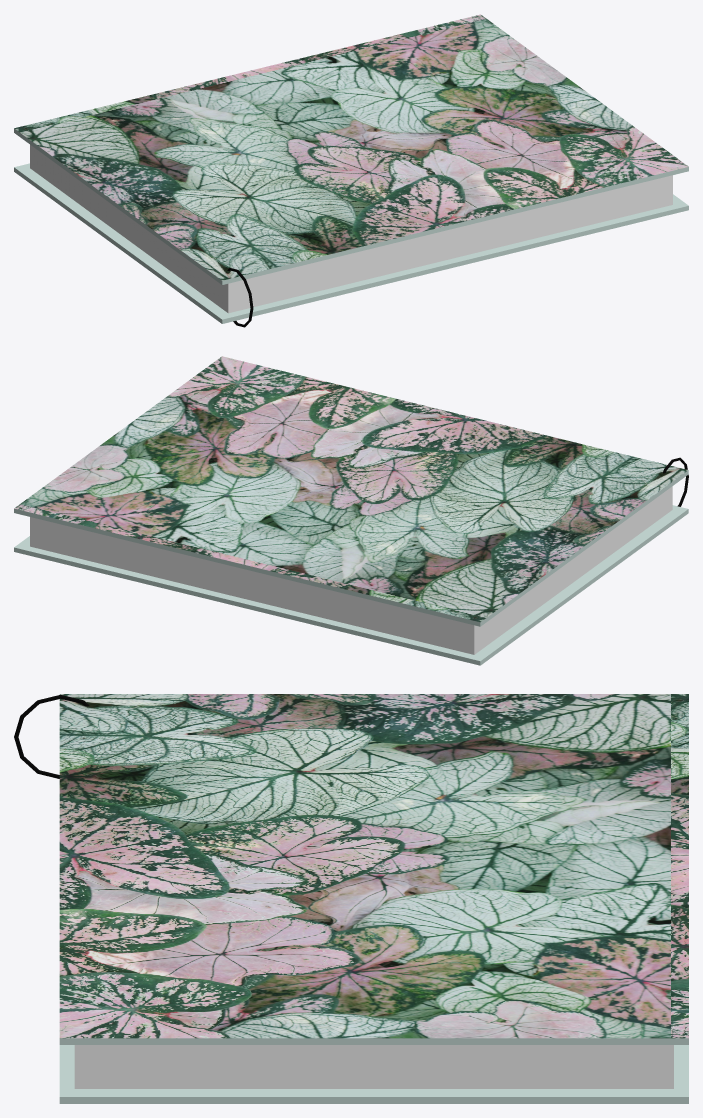
The model's file is agenda-flores.glb.
3 views of the same model, one above another, from view 1: azimuth 30°, elevation 25°; view 2: azimuth 150°, elevation 25°; view 3: azimuth 270°, elevation 25° (orthographic). The views are drawn at different scales.
Parts seen in each view (by area): view 1: Cube; view 2: Cube; view 3: Cube, Torus.001.
Part boxes in pixels (x1=…): Cube: x1=14, y1=14, x2=688, y2=323; Cube: x1=14, y1=356, x2=688, y2=665; Cube: x1=59, y1=694, x2=688, y2=1103; Torus.001: x1=14, y1=694, x2=89, y2=778.
Size of the model in its own units: 0.1299 by 0.0149 by 0.1076.
Materials: 4 (1 with a texture image).
